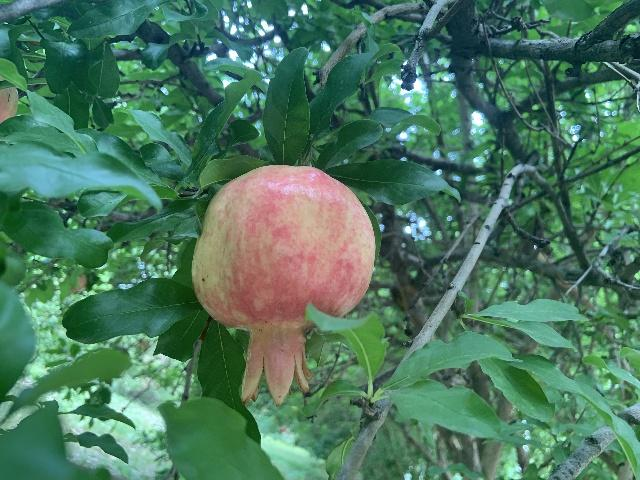ripe: (191, 163, 374, 408)
